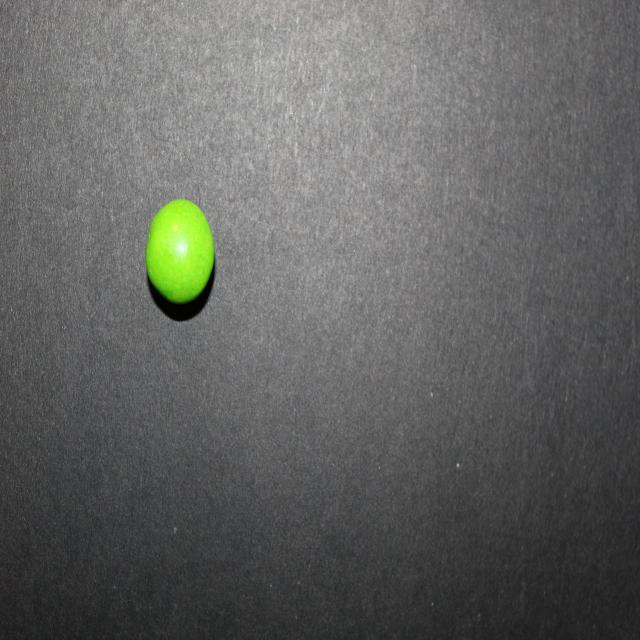smartie: (145, 199, 214, 303)
